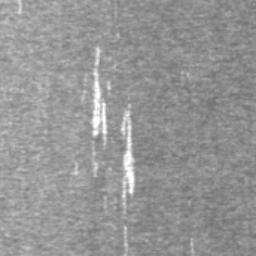White rust: (90, 45, 108, 146), (121, 106, 136, 210), (91, 147, 98, 178), (122, 226, 128, 255), (107, 79, 113, 91), (17, 0, 22, 14)
